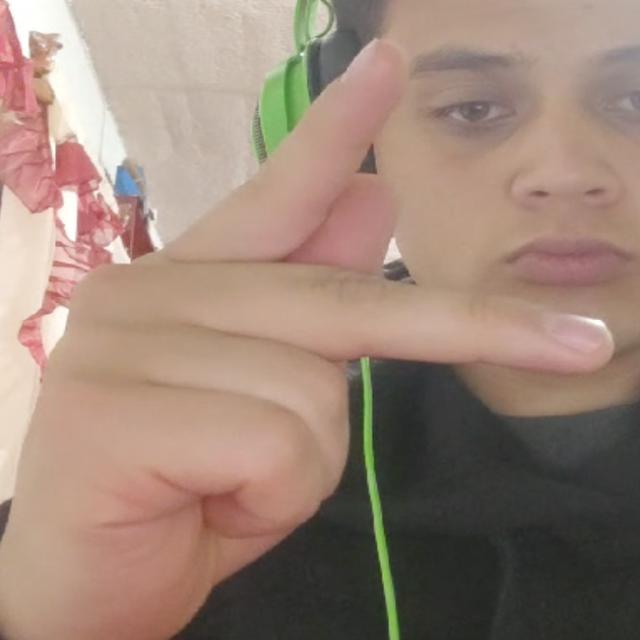P: (0, 29, 625, 640)
